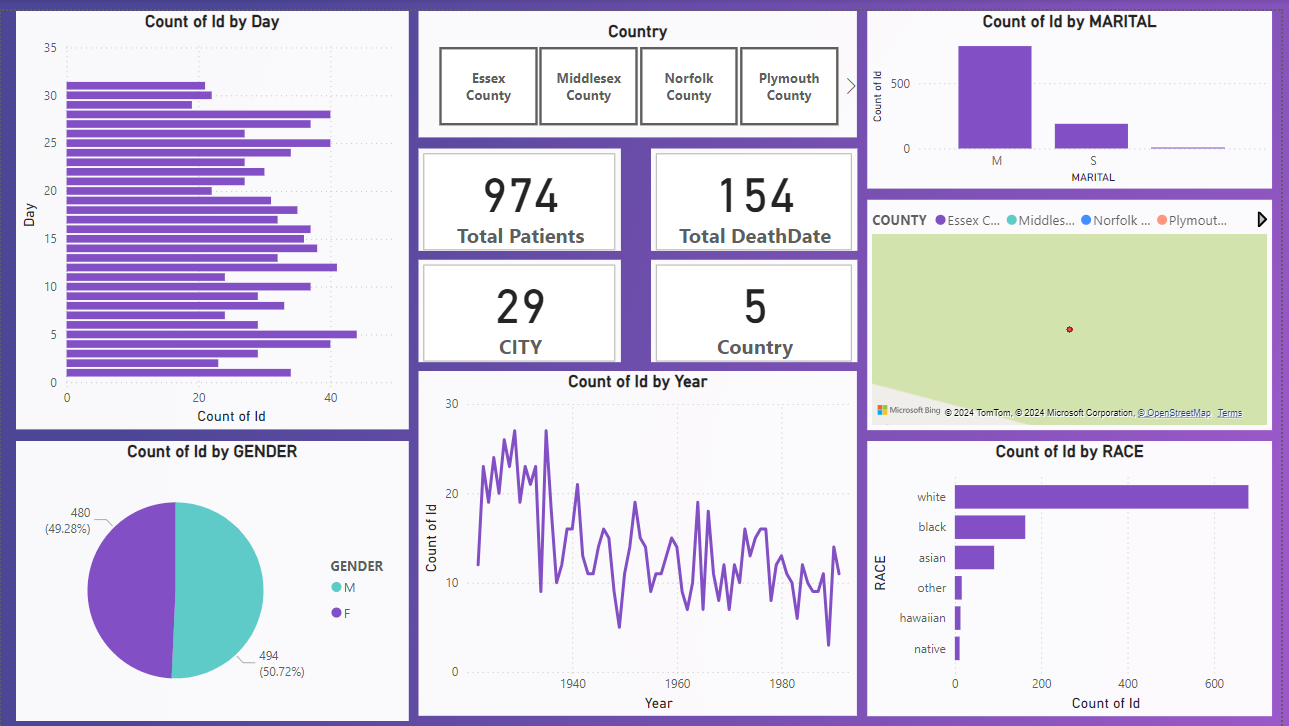

What the dashboard file says about the page in this screenshot:
{"tool":"powerbi","page":{"name":"Page 1","canvas":[1280,720],"ordinal":0},"visuals":[{"type":"clusteredBarChart","fields":{"Category":["patients.BIRTHDATE.Variation.Date Hierarchy.Day"],"Y":["CountNonNull(patients.Id)"]},"box":[15,0,392.5,418.8],"z":0},{"type":"pieChart","fields":{"Category":["patients.GENDER"],"Y":["CountNonNull(patients.Id)"]},"box":[15,430,392.5,280],"z":1000},{"type":"clusteredColumnChart","fields":{"Category":["patients.MARITAL"],"Y":["CountNonNull(patients.Id)"]},"box":[866.2,0,405,177.5],"z":2000},{"type":"barChart","fields":{"Y":["CountNonNull(patients.Id)"],"Category":["patients.RACE"]},"box":[866.2,430,405,275],"z":3000},{"type":"slicer","title":"Country","fields":{"Values":["patients.COUNTY"]},"box":[417.5,0,438.8,126.2],"z":4000},{"type":"map","fields":{"Category":["patients.LAT"],"Series":["patients.COUNTY"]},"box":[866.2,188.8,405,230],"z":5000},{"type":"lineChart","fields":{"Category":["patients.BIRTHDATE.Variation.Date Hierarchy.Year"],"Y":["CountNonNull(patients.Id)"]},"box":[417.5,360,438.8,345],"z":6000},{"type":"cardVisual","fields":{"Data":["CountNonNull(patients.Id)"]},"box":[417.5,137.5,202.5,102.5],"z":7000},{"type":"cardVisual","fields":{"Data":["CountNonNull(patients.DEATHDATE)"]},"box":[650,137.5,206.2,102.5],"z":8000},{"type":"cardVisual","fields":{"Data":["Count(patients.CITY)"]},"box":[417.5,248.8,202.5,102.5],"z":9000},{"type":"cardVisual","fields":{"Data":["Count(patients.COUNTY)"]},"box":[650,248.8,206.2,102.5],"z":10000}]}

Visuals, with their boxes in screenshot pixels (x1, y1, x2, y2), scaled from the page's 1280x720 canvas onto the 1289x726 screenshot:
clusteredBarChart - patients.BIRTHDATE.Variation.Date Hierarchy.Day x CountNonNull(patients.Id): BBox(15, 0, 410, 422)
pieChart - patients.GENDER x CountNonNull(patients.Id): BBox(15, 434, 410, 716)
clusteredColumnChart - patients.MARITAL x CountNonNull(patients.Id): BBox(872, 0, 1280, 179)
barChart - CountNonNull(patients.Id) x patients.RACE: BBox(872, 434, 1280, 711)
"Country" slicer: BBox(420, 0, 862, 127)
map - patients.LAT x patients.COUNTY: BBox(872, 190, 1280, 422)
lineChart - patients.BIRTHDATE.Variation.Date Hierarchy.Year x CountNonNull(patients.Id): BBox(420, 363, 862, 711)
cardVisual - CountNonNull(patients.Id): BBox(420, 139, 624, 242)
cardVisual - CountNonNull(patients.DEATHDATE): BBox(655, 139, 862, 242)
cardVisual - Count(patients.CITY): BBox(420, 251, 624, 354)
cardVisual - Count(patients.COUNTY): BBox(655, 251, 862, 354)
